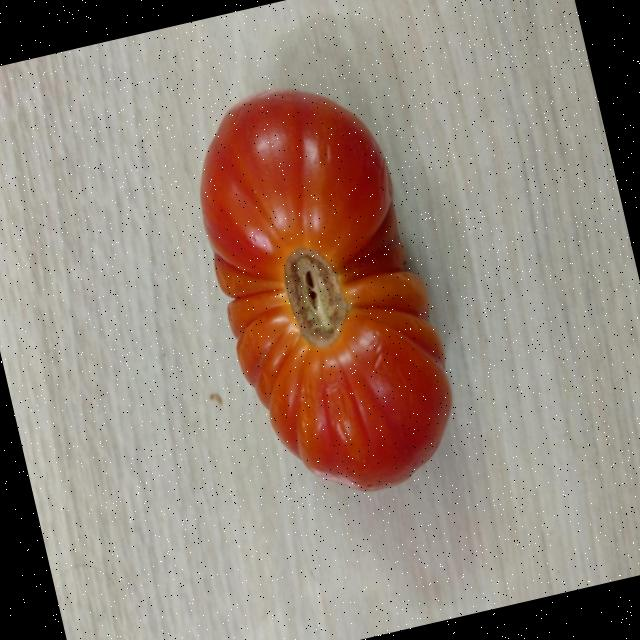Tomato: (172, 64, 473, 513)
